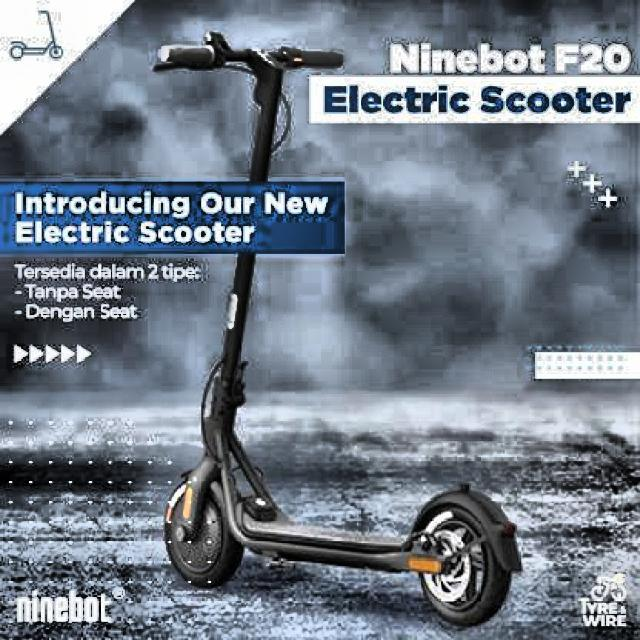bike: (156, 24, 524, 632), (161, 251, 524, 629)
